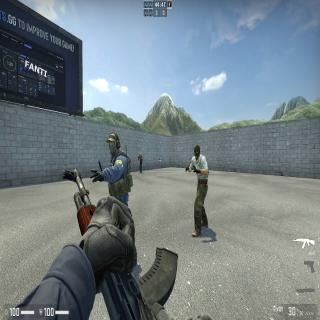CT-Body: (109, 132, 128, 206)
CT-Head: (109, 133, 120, 155)
T-Body: (192, 144, 209, 238), (139, 153, 142, 173)
T-Head: (194, 144, 201, 159), (139, 152, 141, 156)
